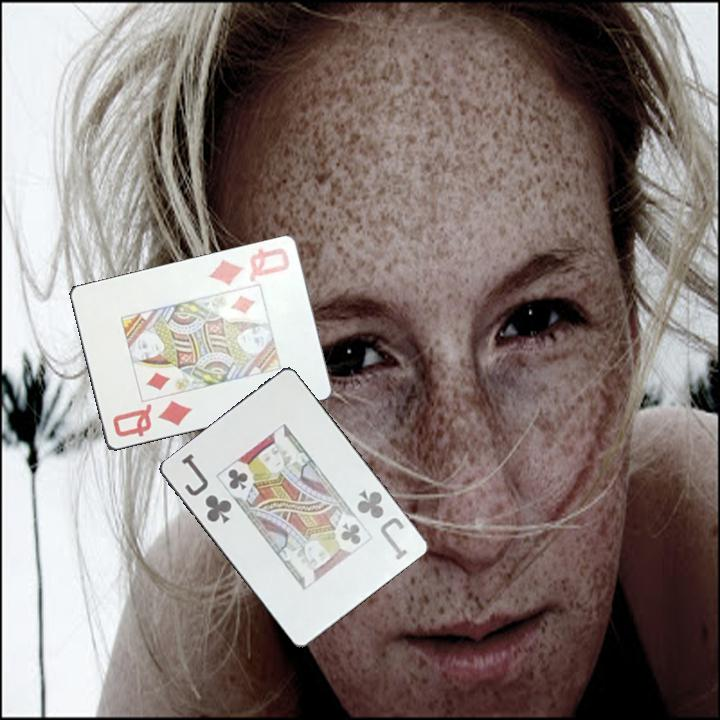Jc: (352, 486, 410, 563), (177, 450, 234, 527)
Qd: (206, 245, 292, 289), (109, 397, 195, 440)
